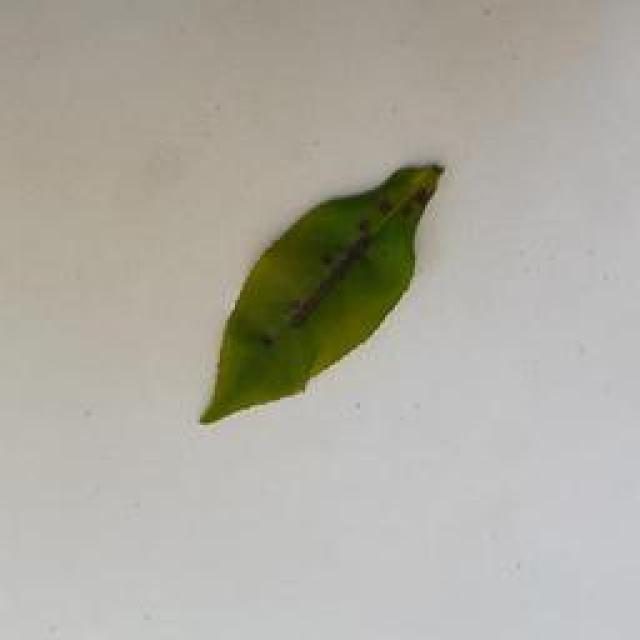Helopeltis: (204, 162, 443, 424)
